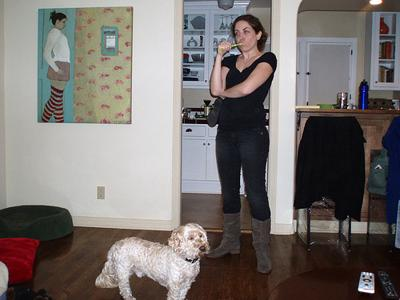person: (205, 14, 278, 275)
